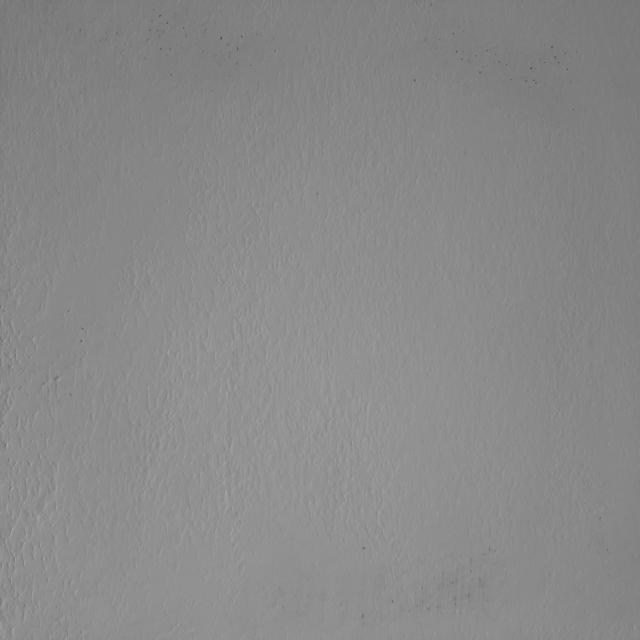rough and patchy surface: (4, 6, 634, 630)
